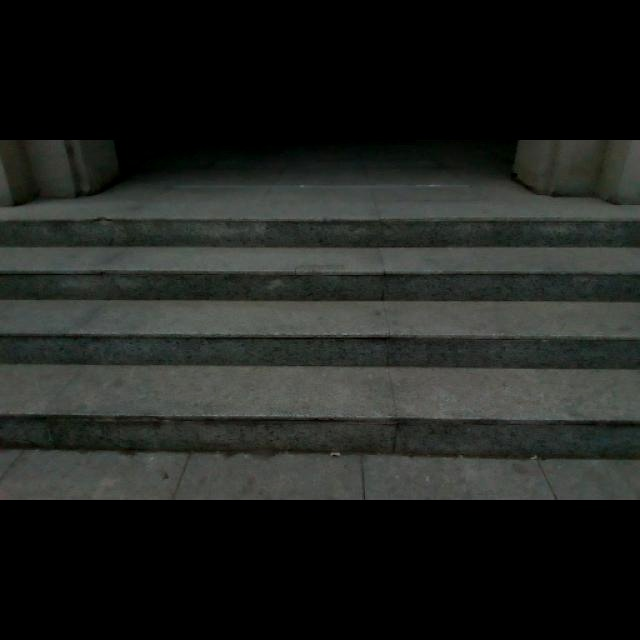stair: (9, 198, 640, 450)
